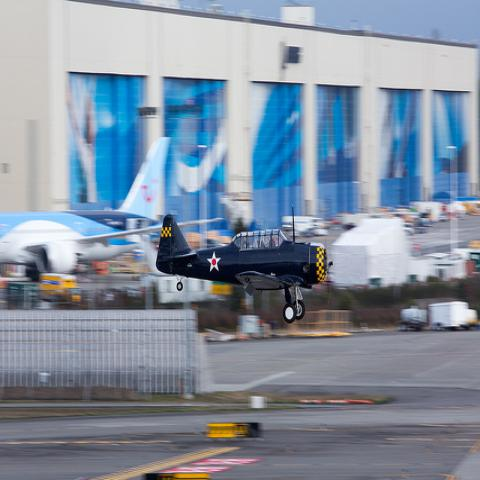truck: (425, 299, 479, 335)
